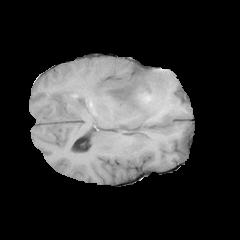glioma: (49, 67, 174, 130)
